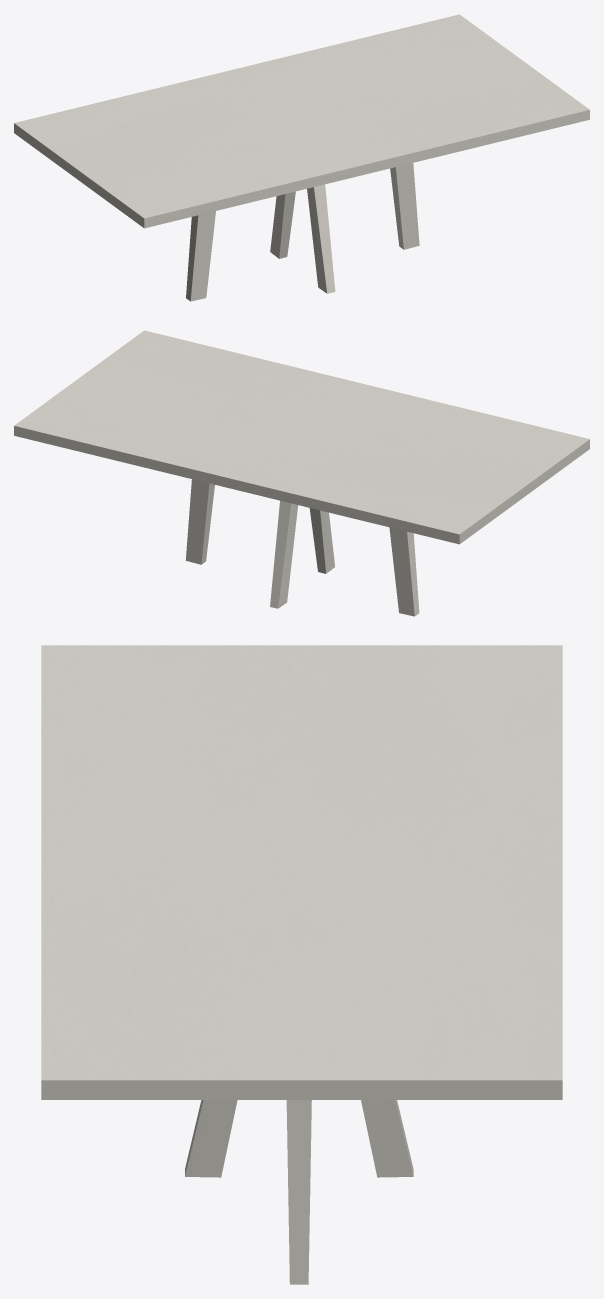
File: pale_recta_standard_fixed.glb
3 renders of one model, top to bottom at view 1: azimuth 30°, elevation 25°; view 2: azimuth 150°, elevation 25°; view 3: azimuth 270°, elevation 25°, orthographic. The views are drawn at different scales.
Visible parts, largest first — view 1: standard_recta, searwalnut; view 2: standard_recta, searwalnut; view 3: standard_recta, searwalnut.
Boxes of the visible parts, bbox=[...] form: standard_recta: bbox=[14, 14, 589, 228]; searwalnut: bbox=[186, 163, 419, 301]; standard_recta: bbox=[14, 330, 589, 544]; searwalnut: bbox=[185, 479, 419, 616]; standard_recta: bbox=[41, 645, 562, 1099]; searwalnut: bbox=[185, 1100, 413, 1284].
Size of the model in its own units: 7.5 by 2.5 by 3.8.
Materials: 1 (1 with a texture image).
